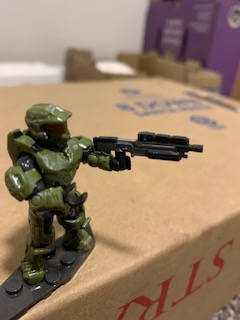chief: (6, 102, 133, 288)
rifle: (94, 129, 205, 169)
spartan: (4, 100, 131, 286)
